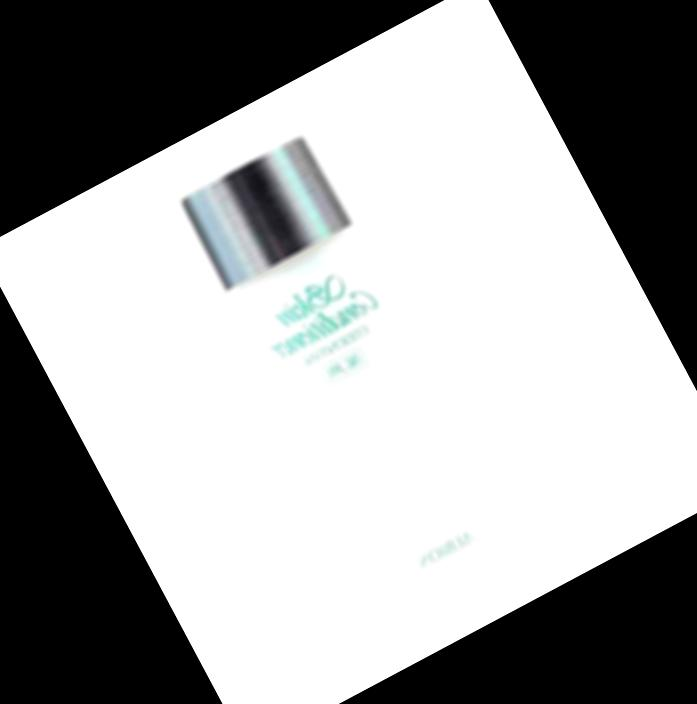cosmetic: (175, 126, 536, 623)
